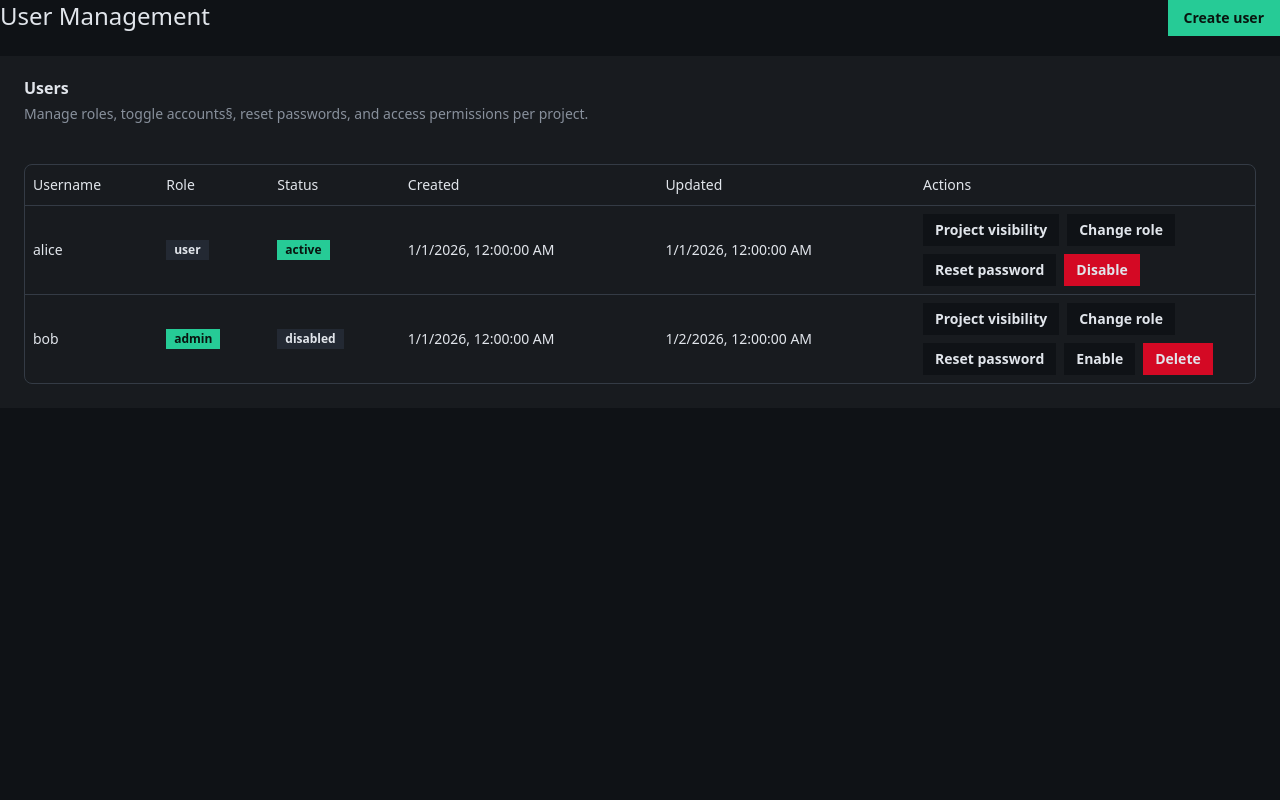
Test: UserManagementPage › opens project visibility dialog and loads visibility plus production lists
The image size is (1280, 800).
Expected: the text "alice" is shown, [25,205,158,294]
Click the button with aria-label "Project visibility alice".
click(991, 230)  # box [923,214,1059,246]
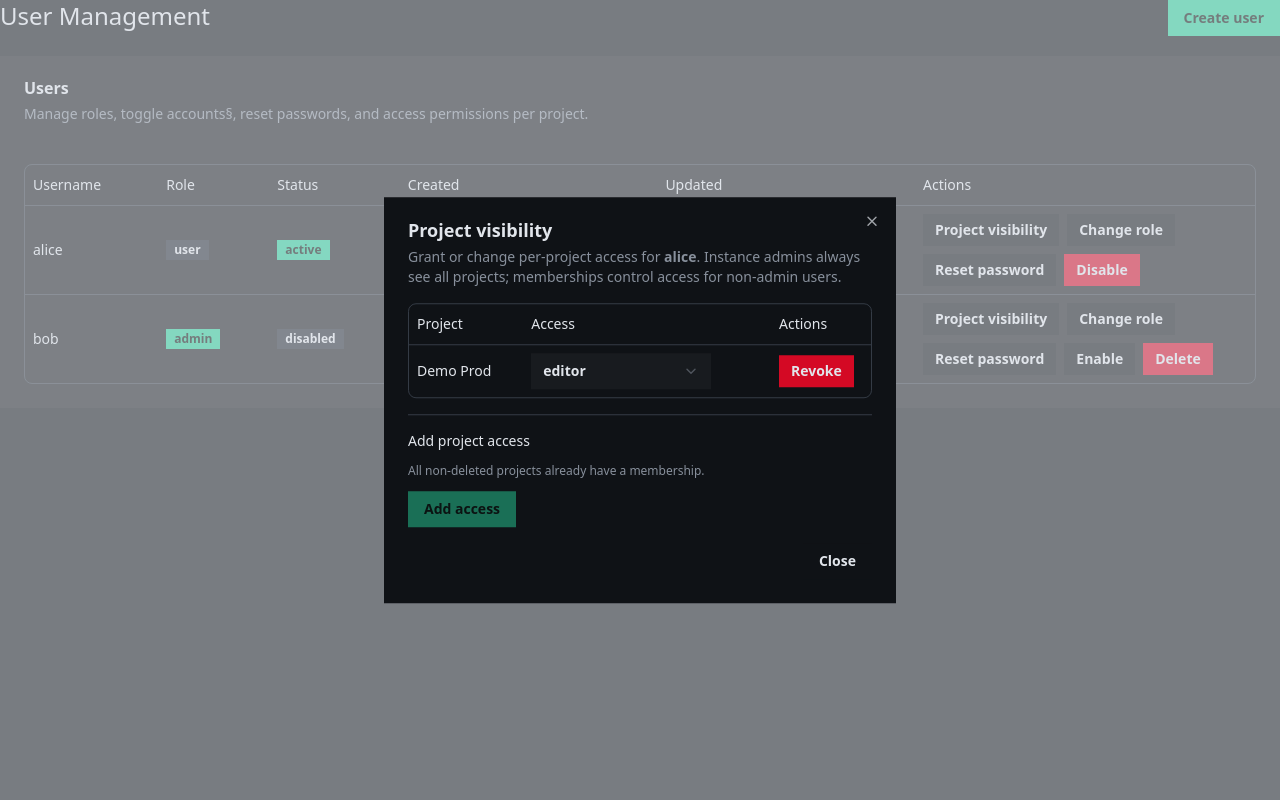
Now the heading "Project visibility" is shown, box [408,218,552,242]
Now the text "Demo Prod" is shown, box [417,361,491,380]
Now the button "Revoke" is shown, box [779,355,854,387]
